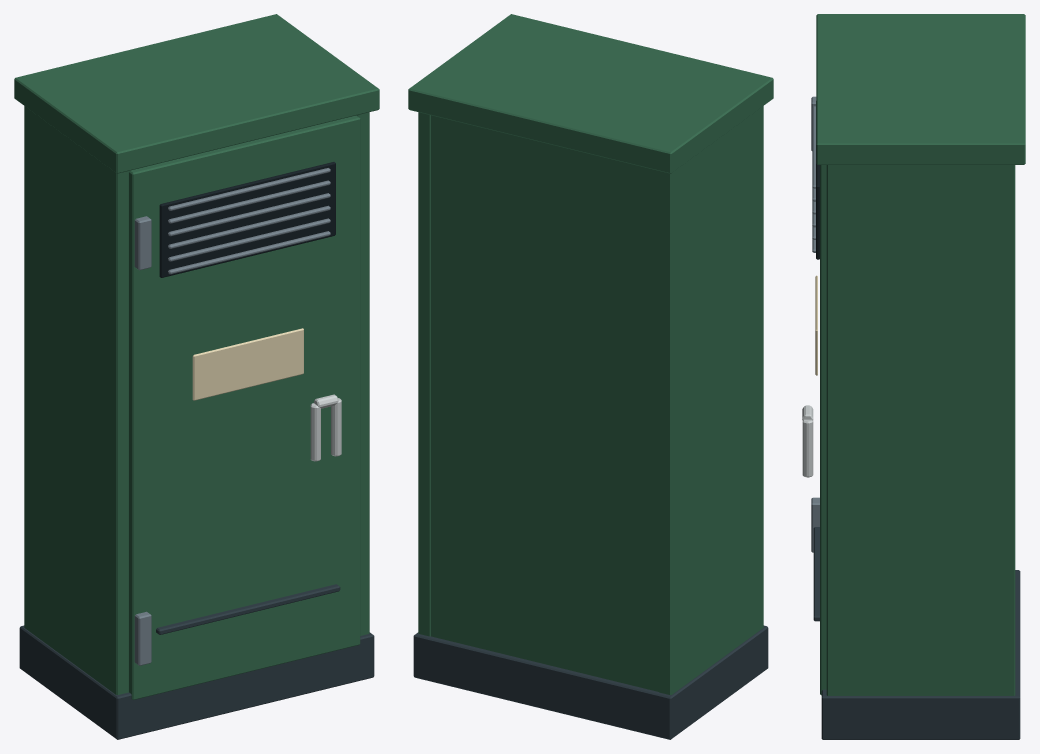
Rendered from b20_winter_maintenance_storage_locker.glb.
3 views of the same model, side by side, from view 1: azimuth 30°, elevation 25°; view 2: azimuth 150°, elevation 25°; view 3: azimuth 270°, elevation 25° (orthographic).
Parts seen in each view (by area): view 1: b20_winter_maintenance_storage_locker; view 2: b20_winter_maintenance_storage_locker; view 3: b20_winter_maintenance_storage_locker.
Part boxes in pixels (<box>): b20_winter_maintenance_storage_locker: <box>14,14,379,739</box>; b20_winter_maintenance_storage_locker: <box>408,14,773,739</box>; b20_winter_maintenance_storage_locker: <box>802,14,1025,739</box>.
Bounding box in the file's own units: 0.9 × 1.92 × 0.651.
